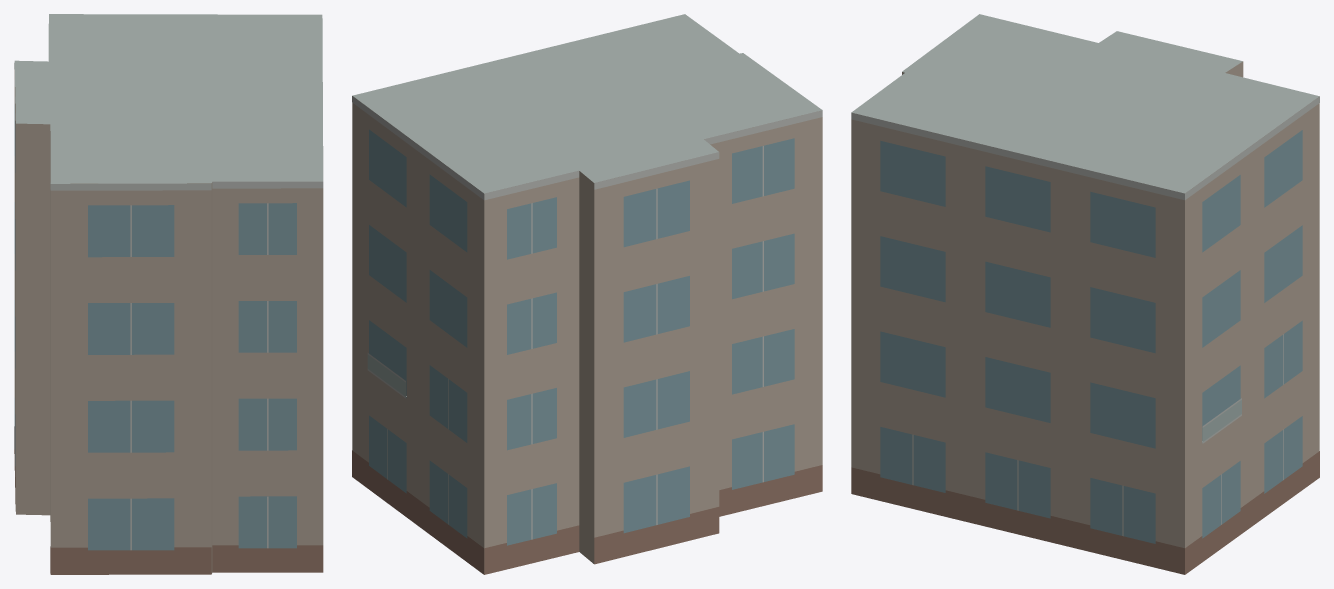
The model's file is survey-upis-32709509.glb.
3 renders of one model, left to right at view 1: azimuth 30°, elevation 25°; view 2: azimuth 150°, elevation 25°; view 3: azimuth 270°, elevation 25°, orthographic. The views are drawn at different scales.
Visible parts, largest first — view 1: survey-upis-32709509.tmp; view 2: survey-upis-32709509.tmp; view 3: survey-upis-32709509.tmp.
Part boxes in pixels (box(x1,y1,x2,y2)): survey-upis-32709509.tmp: box(14, 14, 323, 574); survey-upis-32709509.tmp: box(352, 14, 822, 574); survey-upis-32709509.tmp: box(851, 14, 1319, 574).
Bounding box in the file's own units: 13.84 × 13.7 × 15.26.
